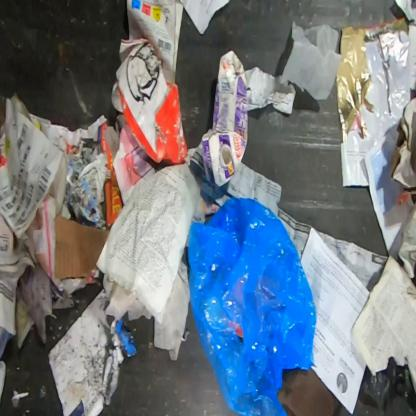cardboard: (110, 36, 188, 166), (201, 49, 249, 187), (54, 213, 111, 280), (100, 121, 124, 226), (390, 95, 415, 190)
soft_plastic: (186, 196, 318, 415), (281, 19, 343, 101), (358, 357, 415, 415)
